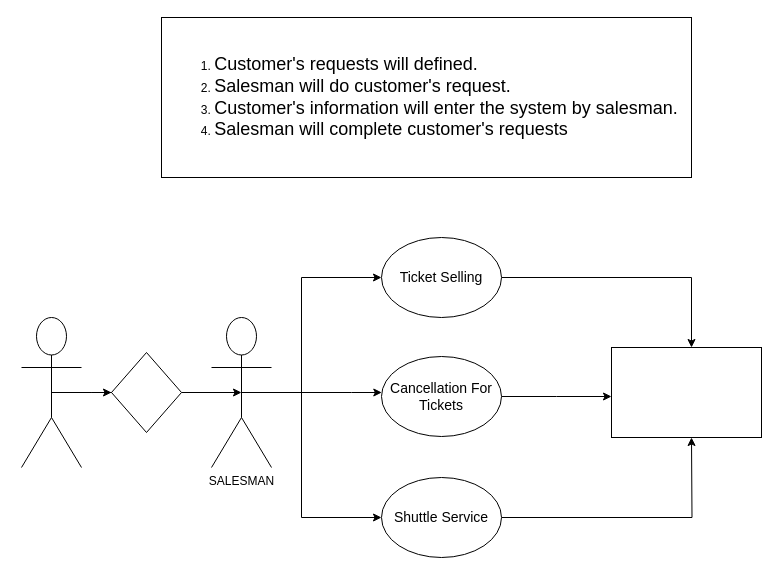
Image size: 779x575. Some labels were removed from this diagram. Here are the shapes that lost their labels. From the top down, the centre of each, then its label:
At point 51,392: "CUSTOMER".
At point 146,392: "BOOKING".
At point 686,392: "COMPANY".
